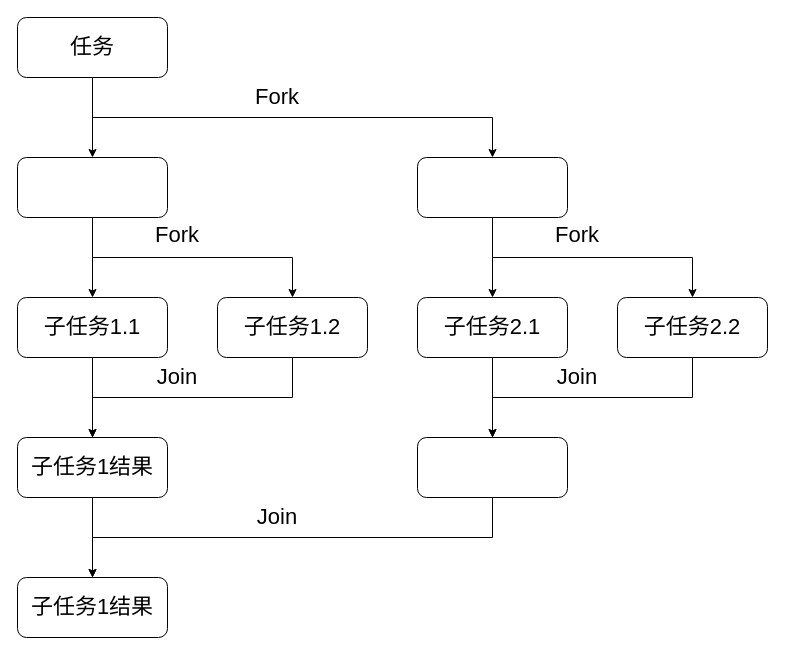
Image size: 785x655. Some labels were removed from this diagram. Here are the shapes that lost their labels. From the top down, the centre of each, then its label:
At point 92,187: "子任务1".
At point 492,187: "子任务2".
At point 492,467: "子任务2结果".
